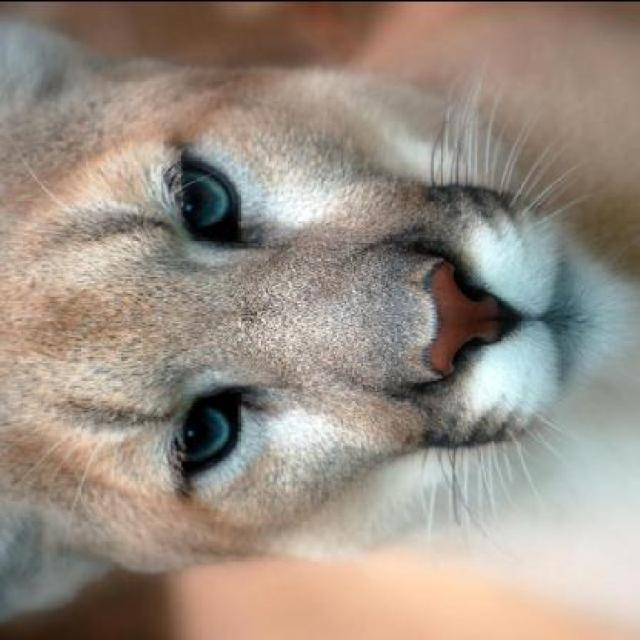Lion: (9, 31, 638, 597)
